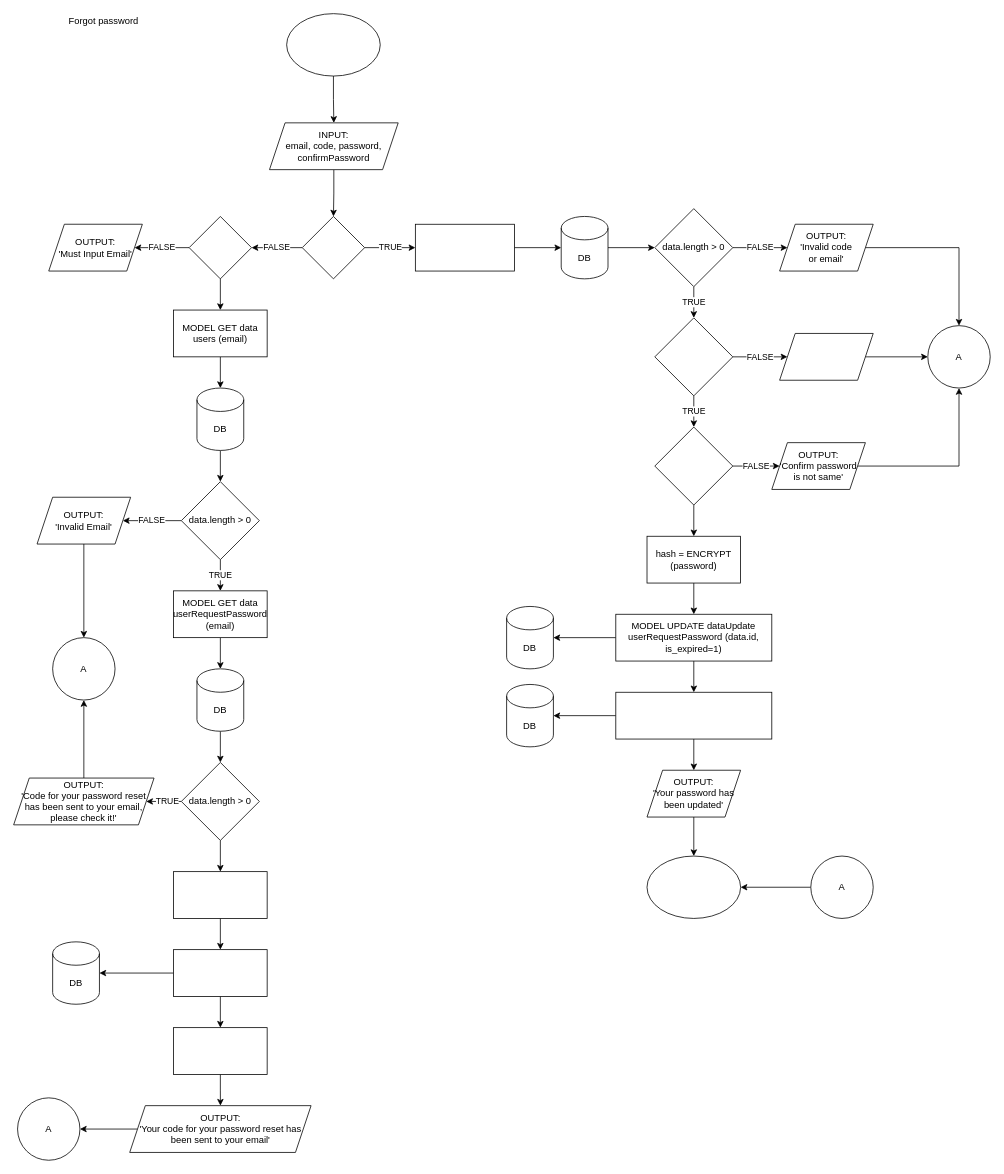
Image size: 1004x1174. Some labels were removed from this diagram. Here are the shapes that lost their labels. From the top down, the box of each, then its label:
(286, 13, 380, 76): START
(188, 216, 252, 279): email
(301, 216, 365, 279): code
(415, 223, 514, 271): MODEL GET data userRequestPassword (email, code)
(654, 317, 733, 396): validatePassword (password)
(779, 333, 873, 380): OUTPUT: 'Invalid password'
(654, 426, 733, 505): comparePassword (password, confirmPassword)
(615, 691, 772, 739): MODEL UPDATE dataUpdate users (data.id_user, password:hash)
(173, 871, 267, 918): randomCode = RANDOMIZE 6 DIGIT NUMBER
(646, 855, 741, 918): END
(173, 949, 267, 996): MODEL INSERT data userRequestData (email, code)
(173, 1027, 267, 1074): SEND MAIL with code to email
